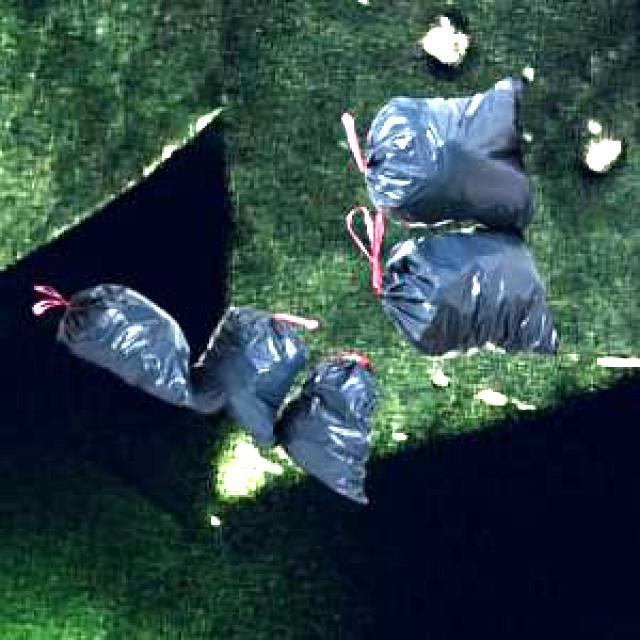Bolsa-de-plastico: (202, 292, 376, 496), (330, 230, 568, 363), (357, 67, 538, 223), (35, 268, 188, 417)
